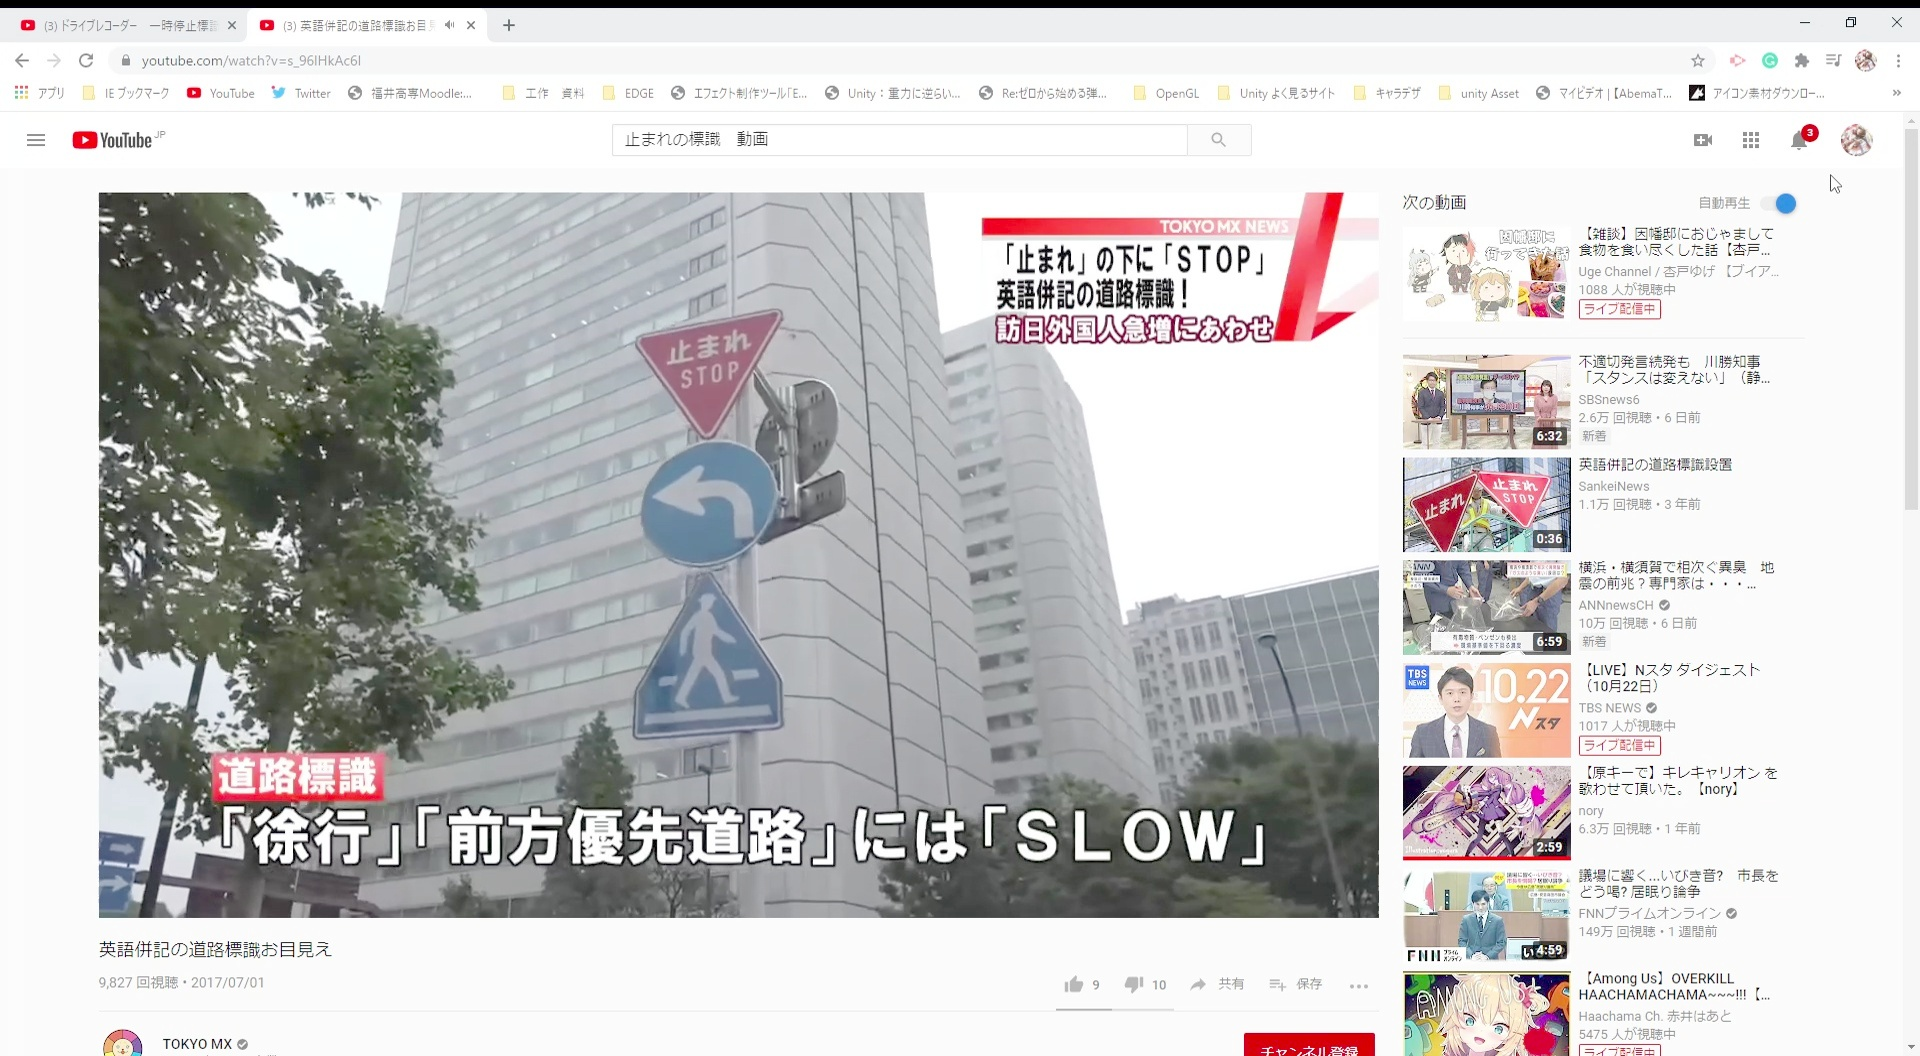Regulatory_sign_triangle: (621, 310, 803, 456)
